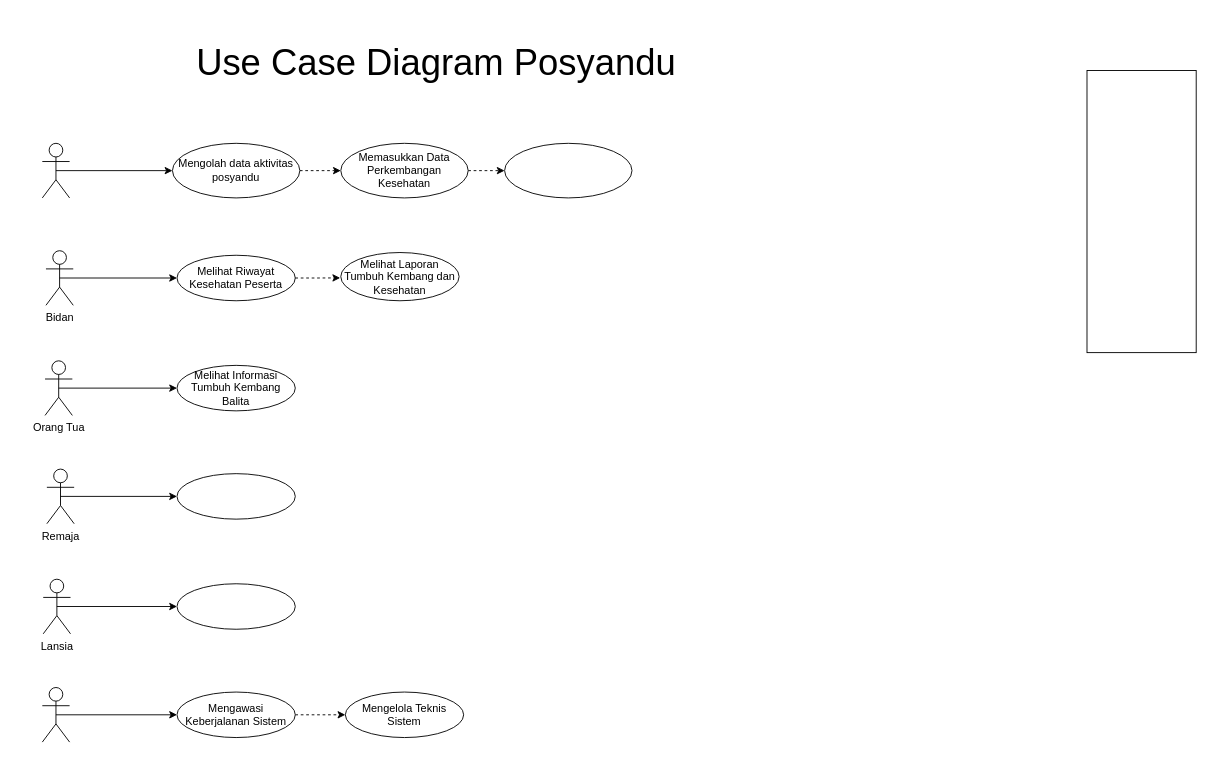
Image size: 1212x776. Some labels were removed from this diagram. Here are the shapes that lost their labels. From the top down, the box of each, then its label:
(41, 142, 70, 198): Kader Posyandu
(504, 142, 632, 198): Memperbarui Informasi Kegiatan Posyandu
(176, 473, 295, 519): Melihat Informasi Kesehatan Remaja
(176, 583, 295, 629): Melihat Informasi Kesehatan Lansia
(41, 687, 70, 742): Admin
